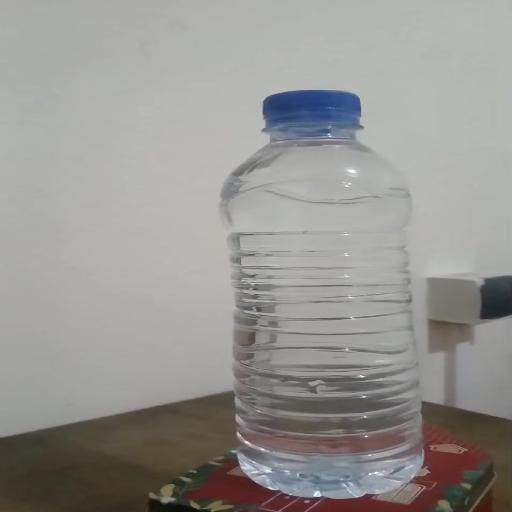bouteille non conformite: (123, 77, 464, 500), (0, 218, 512, 416)
